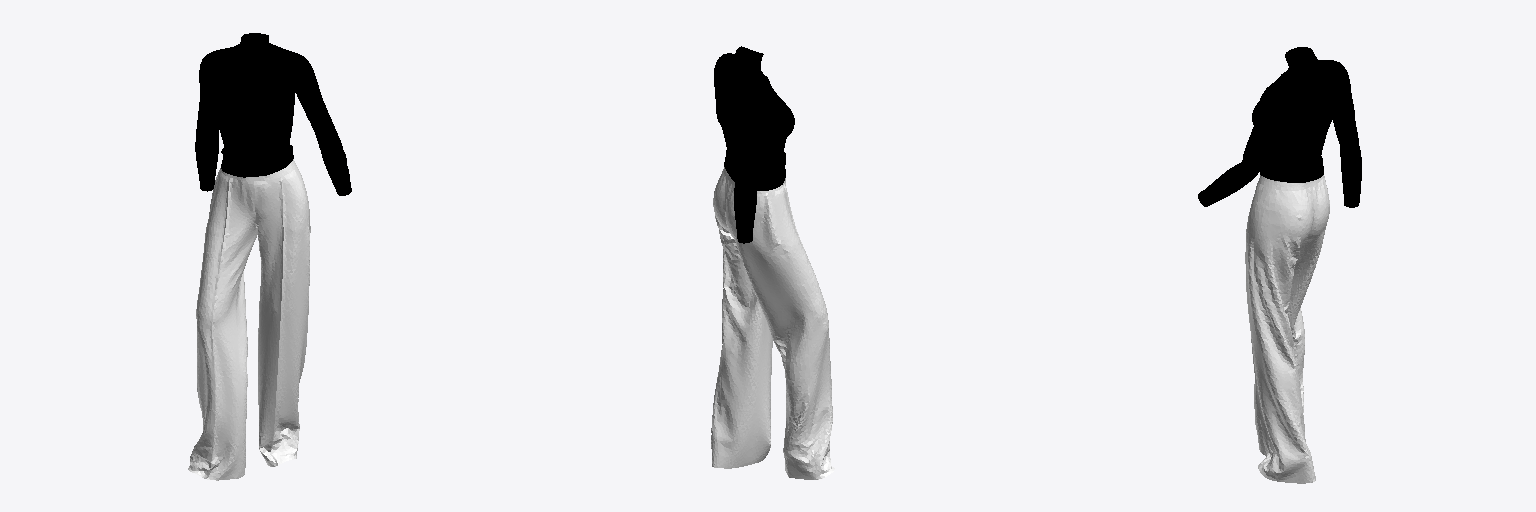
The model's file is DA_HighNeck+WidePants_0000082.obj.
3 renders of one model, left to right at view 1: azimuth 30°, elevation 25°; view 2: azimuth 150°, elevation 25°; view 3: azimuth 270°, elevation 25°, orthographic.
Bounding box in the file's own units: 0.5319 × 1.63 × 0.5785.